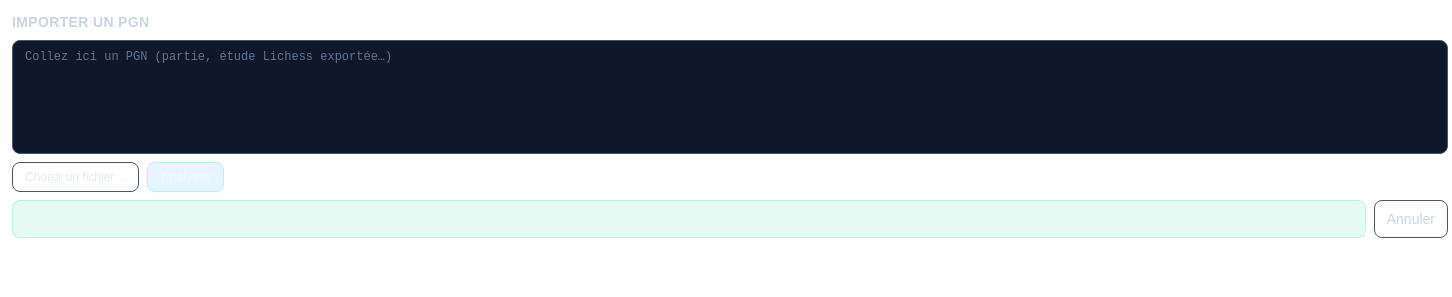
Test: PgnImporter › explique un texte sans partie et un import impossible
Type "%%%" into the text box named "Texte PGN" at (730, 97), box [12, 40, 1448, 154]
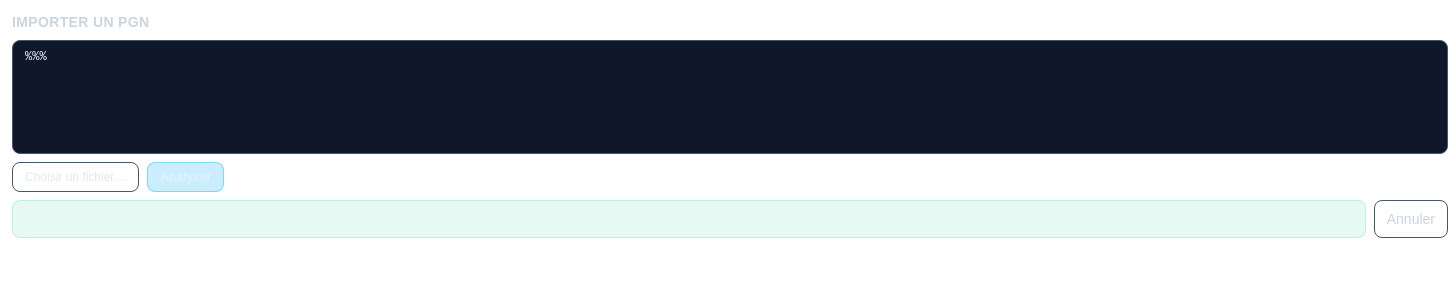
Click the button "Analyser" at (186, 177), box [147, 162, 224, 192]
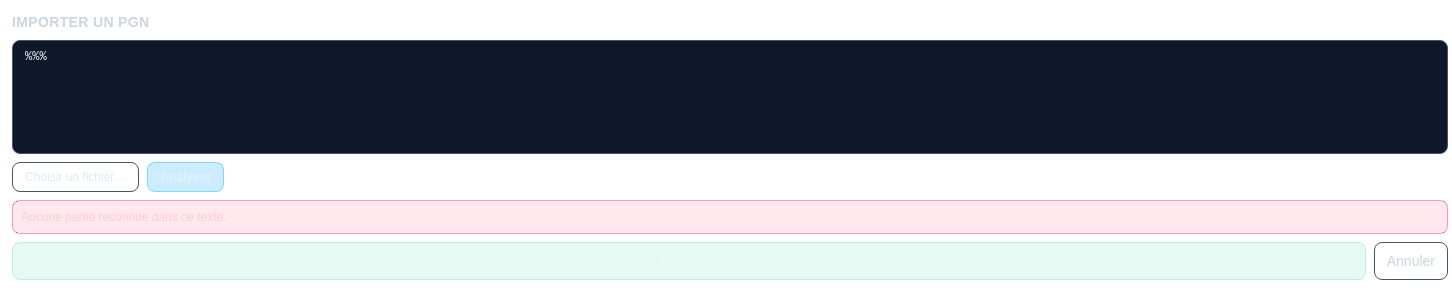
expect the text "Aucune partie reconnue dans ce texte." is shown: met, box [12, 200, 1448, 234]
